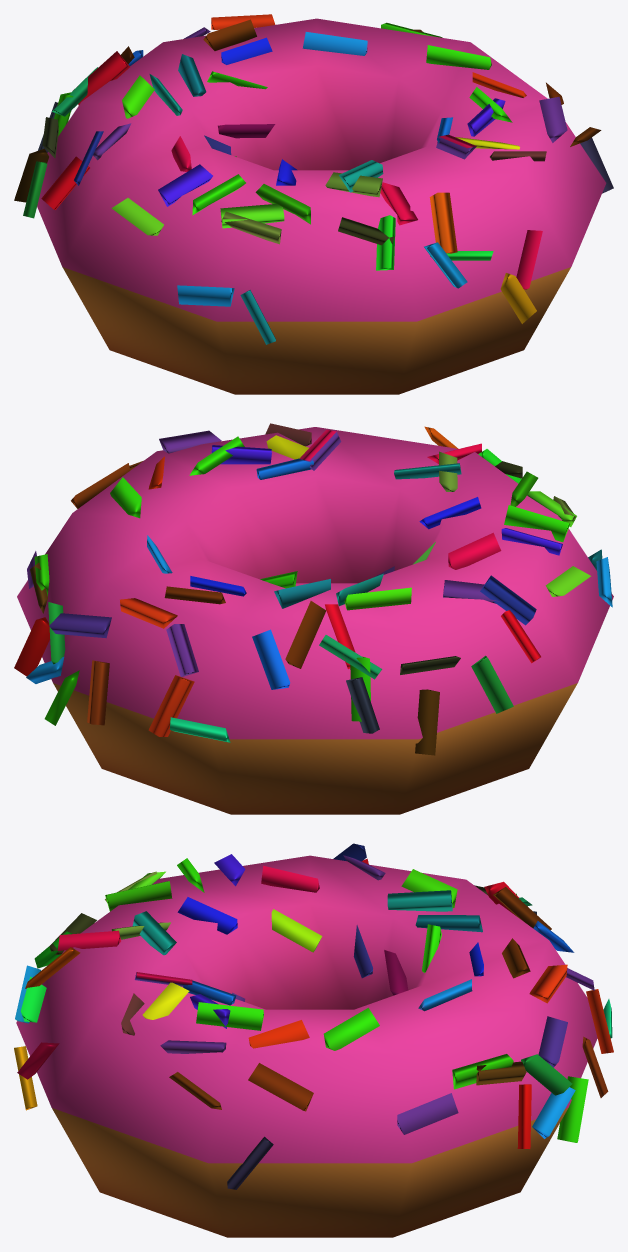
Rendered from ColoredDonut_Regular.fbx.
3 views of the same model, one above another, from view 1: azimuth 30°, elevation 25°; view 2: azimuth 150°, elevation 25°; view 3: azimuth 270°, elevation 25° (orthographic). The views are drawn at different scales.
Parts seen in each view (by area): view 1: ColoredDonut_Regular; view 2: ColoredDonut_Regular; view 3: ColoredDonut_Regular.
Boxes of the visible parts, x1,y1,x2,y2 form: ColoredDonut_Regular: [14, 14, 613, 394]; ColoredDonut_Regular: [14, 423, 613, 814]; ColoredDonut_Regular: [14, 843, 613, 1237].
Size of the model in its own units: 36.58 by 14.06 by 36.62.
